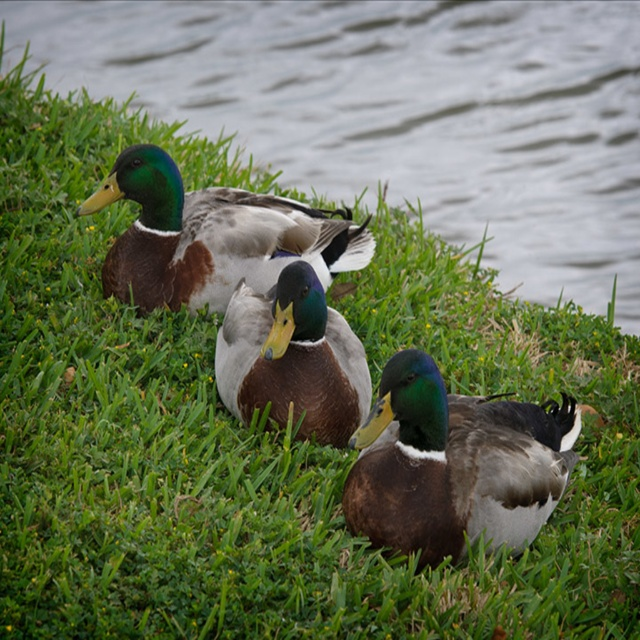Duck: (71, 137, 372, 338), (339, 351, 588, 564), (206, 260, 378, 461)
